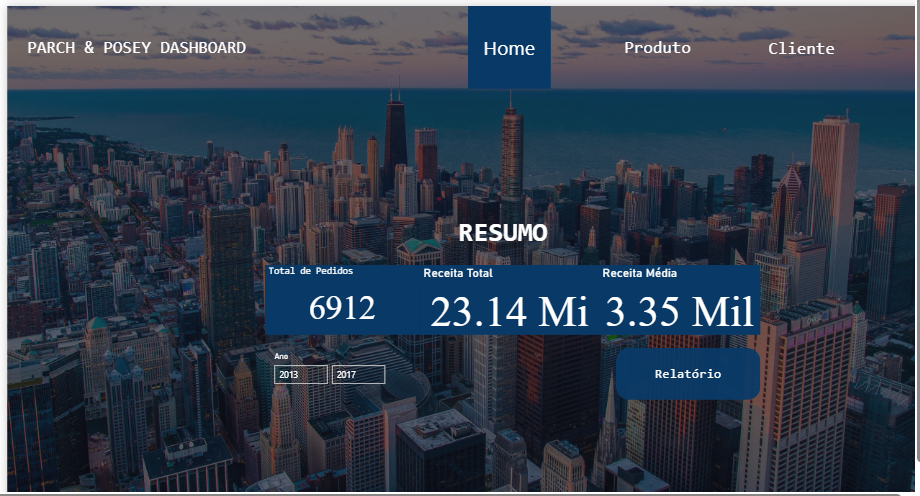

Layout of this report page (visuals, bound fields, positions):
{"tool":"powerbi","page":{"name":"HOME","canvas":[1280,720],"ordinal":0},"visuals":[{"type":"textbox","box":[24.1,38.3,372.8,42.5],"z":0},{"type":"textbox","box":[640.6,0,114.8,114.8],"z":1000},{"type":"actionButton","box":[844.7,0,119.1,114.8],"z":2000},{"type":"actionButton","box":[1044.6,1.4,119.1,114.8],"z":3000},{"type":"textbox","box":[622.2,287.7,153.1,72.3],"z":4000},{"type":"card","title":"Total de Pedidos","fields":{"Values":["Medidas_Cliente.QuantidadeDePedidos"]},"box":[358.8,360.3,214.6,97.1],"z":5000},{"type":"card","title":"Receita Total","fields":{"Values":["Medidas_Cliente.ReceitaTotal"]},"box":[573.4,360.3,249.1,97.1],"z":6000},{"type":"card","title":"Receita Média","fields":{"Values":["Medidas_Cliente.ReceitaMediaPorPedido"]},"box":[822.5,360.3,224,97.1],"z":7000},{"type":"slicer","fields":{"Values":["orders.occurred_date.Variation.Hierarquia de datas.Ano"]},"box":[358.8,474.7,396.4,64.2],"z":8000},{"type":"actionButton","title":"ddcdfdddwww","box":[846,474.7,200.5,72.1],"z":9000}]}

Visuals, with their boxes on the page's 1280x720 design canvas (x1, y1, x2, y2). These are canvas units, not pixel positions in the 920x496 screenshot, which may show the page scaled, cropped or inside an application window:
textbox: pyautogui.locateOnScreen(24, 38, 397, 81)
textbox: pyautogui.locateOnScreen(641, 0, 755, 115)
actionButton: pyautogui.locateOnScreen(845, 0, 964, 115)
actionButton: pyautogui.locateOnScreen(1045, 1, 1164, 116)
textbox: pyautogui.locateOnScreen(622, 288, 775, 360)
"Total de Pedidos" card: pyautogui.locateOnScreen(359, 360, 573, 457)
"Receita Total" card: pyautogui.locateOnScreen(573, 360, 822, 457)
"Receita Média" card: pyautogui.locateOnScreen(822, 360, 1046, 457)
slicer - orders.occurred_date.Variation.Hierarquia de datas.Ano: pyautogui.locateOnScreen(359, 475, 755, 539)
"ddcdfdddwww" actionButton: pyautogui.locateOnScreen(846, 475, 1046, 547)
